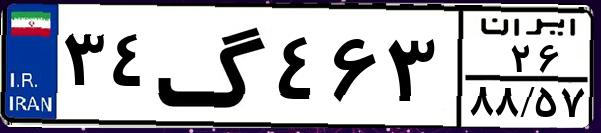2: (508, 27, 537, 80)
3: (385, 28, 445, 110), (57, 26, 110, 100)
4: (270, 28, 330, 110), (110, 28, 156, 98)
5: (535, 70, 560, 125)
6: (330, 28, 385, 110), (537, 27, 568, 80)
7: (560, 70, 590, 125)
8: (470, 70, 495, 125), (495, 70, 520, 125)
گ: (156, 12, 270, 120)
